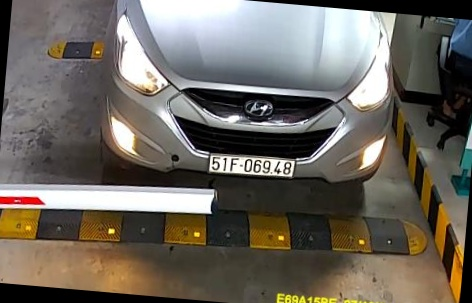plate: (202, 150, 297, 183)
